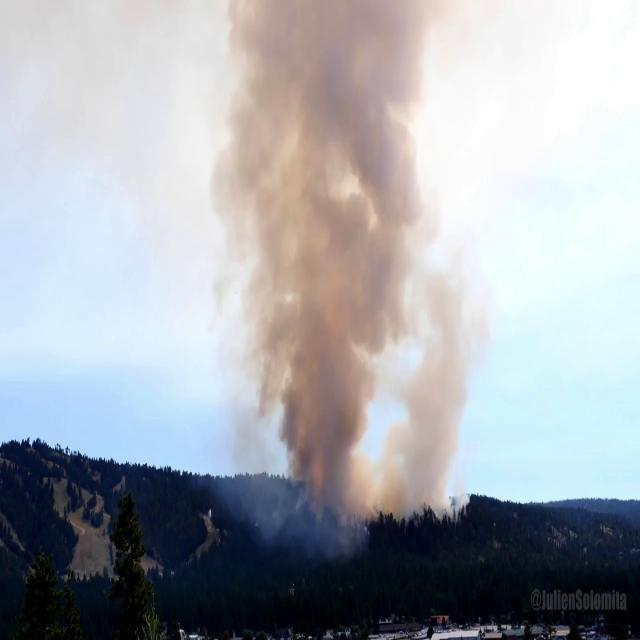Smoke: (200, 12, 508, 532)
